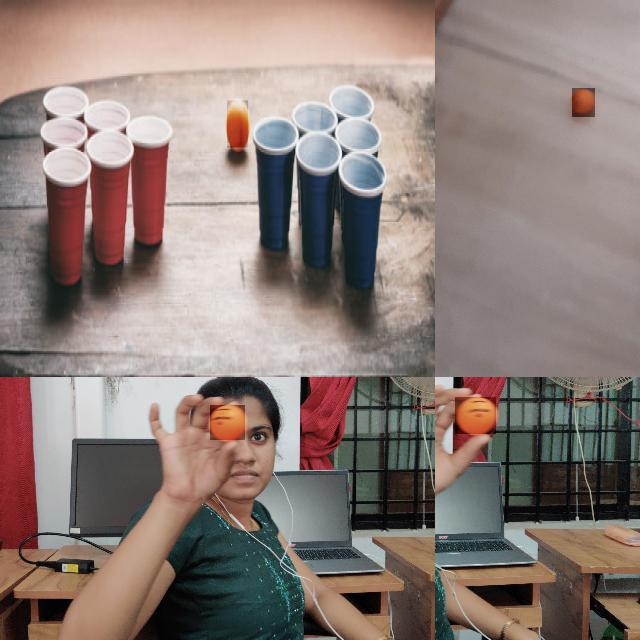ping-pong-ball: (455, 397, 497, 435), (210, 405, 247, 441), (227, 100, 249, 149), (572, 88, 596, 118)
